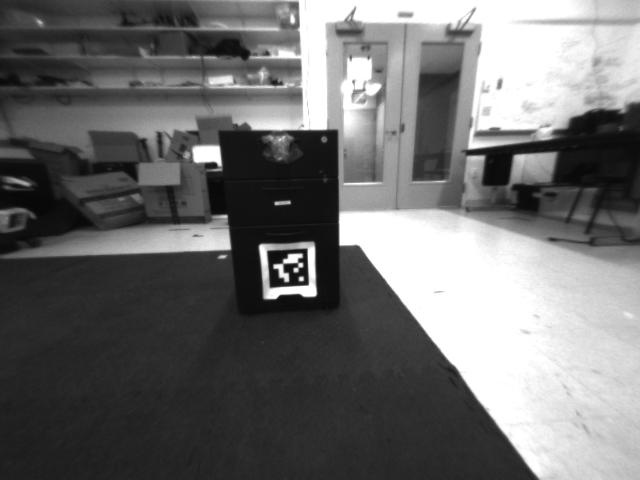door_handle: (378, 125, 399, 140)
drawer: (253, 128, 308, 168)
